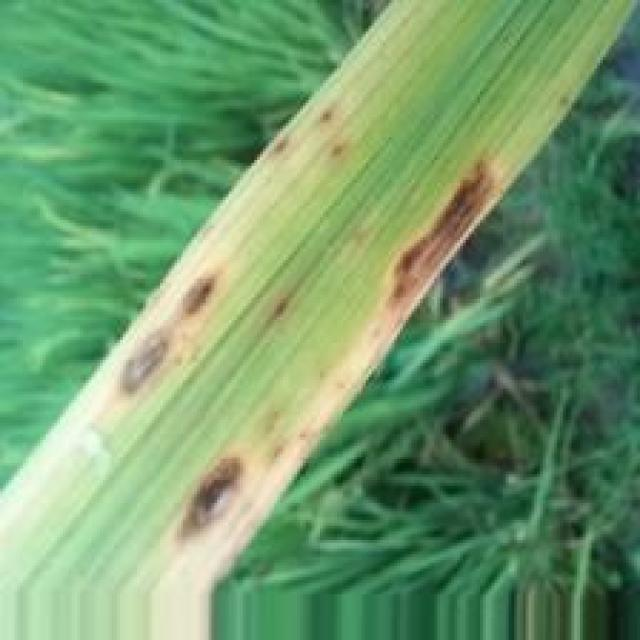Leaf_Blast: (376, 146, 503, 333), (162, 453, 248, 556), (113, 324, 179, 406), (173, 269, 224, 325)
